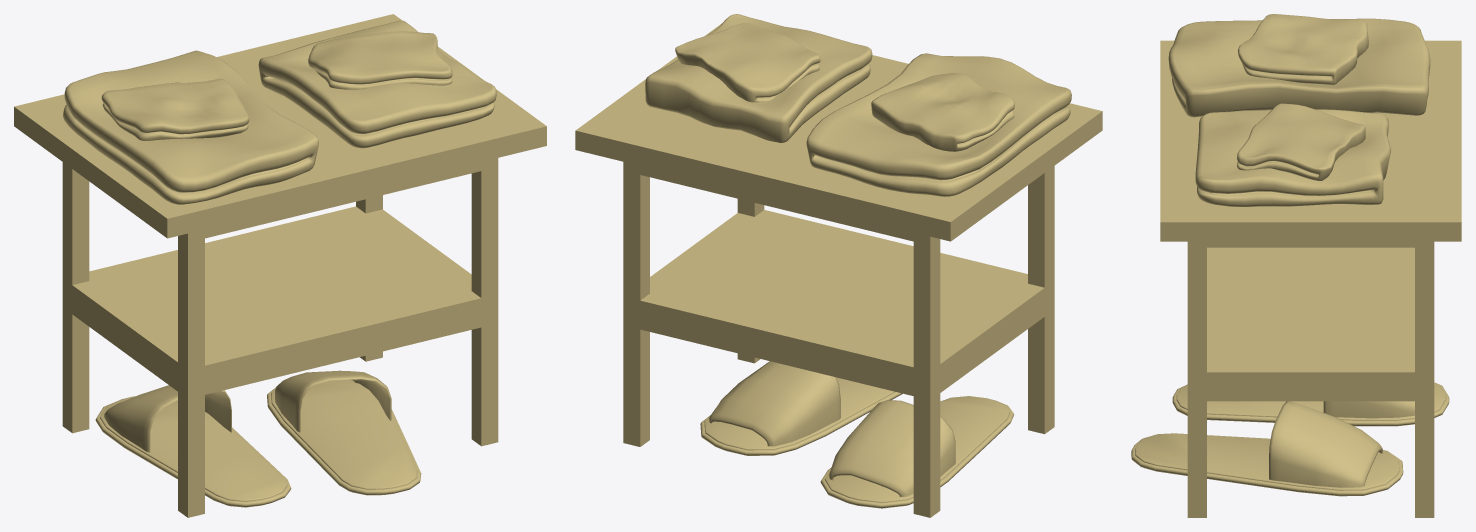
Rendered from Bathroom_Table.fbx.
3 views of the same model, side by side, from view 1: azimuth 30°, elevation 25°; view 2: azimuth 150°, elevation 25°; view 3: azimuth 270°, elevation 25° (orthographic).
Parts seen in each view (by area): view 1: SM_Bath_Table, SM_Towels, SM_Slippers; view 2: SM_Bath_Table, SM_Towels, SM_Slippers; view 3: SM_Bath_Table, SM_Towels, SM_Slippers.
Part boxes in pixels (x1,y1,x2,y2): SM_Bath_Table: [14, 14, 546, 517]; SM_Towels: [63, 20, 496, 204]; SM_Slippers: [95, 370, 421, 507]; SM_Bath_Table: [575, 23, 1102, 517]; SM_Towels: [645, 14, 1071, 196]; SM_Slippers: [700, 361, 1014, 508]; SM_Bath_Table: [1160, 40, 1461, 517]; SM_Towels: [1168, 14, 1430, 206]; SM_Slippers: [1131, 382, 1449, 496].
Size of the model in its own units: 50 by 45.88 by 38.36.
